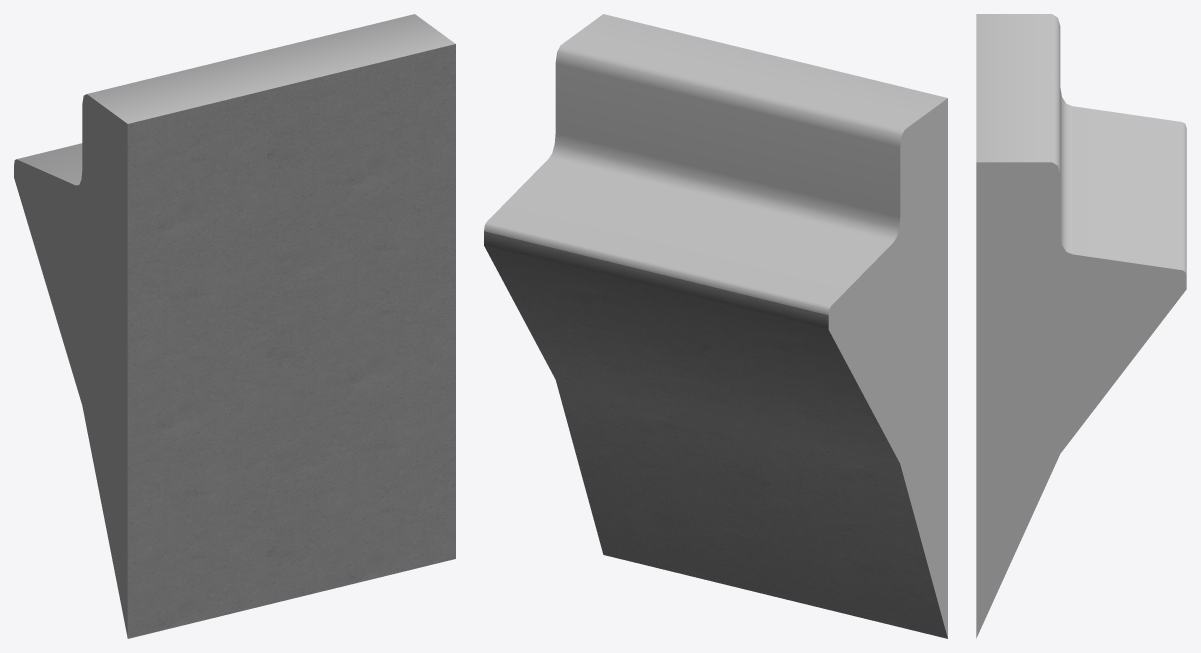
The model's file is public_seat.fbx.
3 renders of one model, left to right at view 1: azimuth 30°, elevation 25°; view 2: azimuth 150°, elevation 25°; view 3: azimuth 270°, elevation 25°, orthographic. The views are drawn at different scales.
Parts seen in each view (by area): view 1: public_seat; view 2: public_seat; view 3: public_seat.
Part boxes in pixels (x1,y1,x2,y2): public_seat: [14, 14, 455, 638]; public_seat: [484, 14, 947, 638]; public_seat: [976, 14, 1186, 638].
Bounding box in the file's own units: 1 × 1.5 × 0.6.
